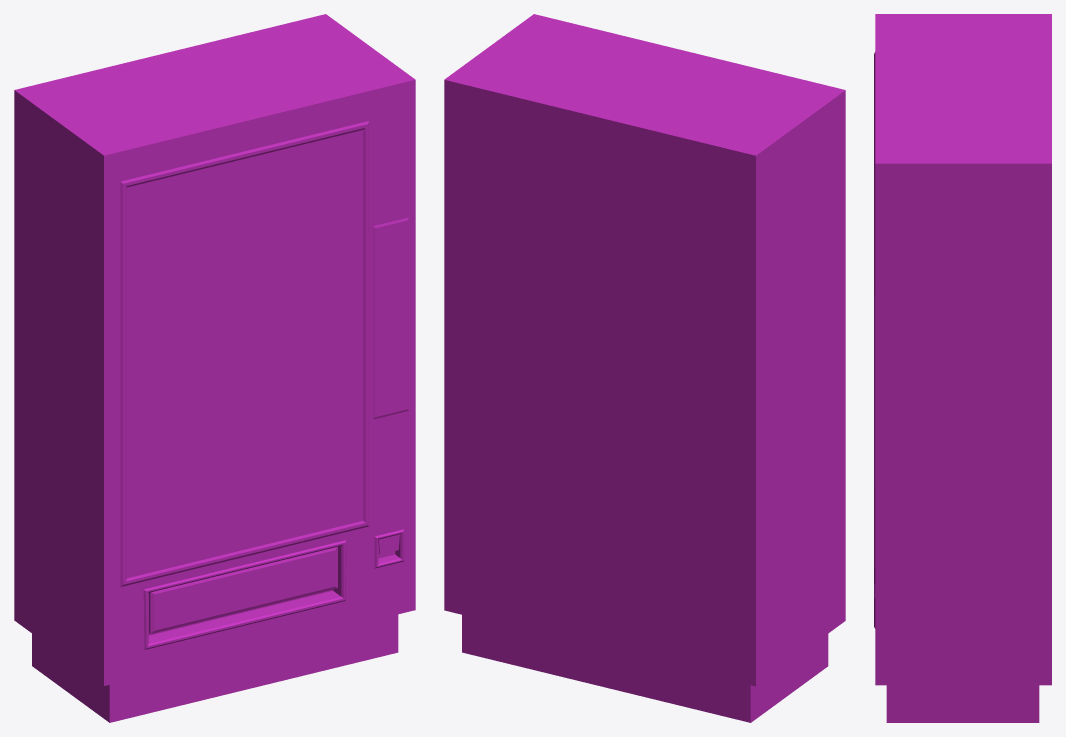
The model's file is vending_machine_fbx.fbx.
3 views of the same model, side by side, from view 1: azimuth 30°, elevation 25°; view 2: azimuth 150°, elevation 25°; view 3: azimuth 270°, elevation 25° (orthographic).
Visible parts, largest first — view 1: vending_machine; view 2: vending_machine; view 3: vending_machine.
Part boxes in pixels (<box>): vending_machine: <box>14,14,415,722</box>; vending_machine: <box>444,14,845,722</box>; vending_machine: <box>874,14,1051,722</box>.
Size of the model in its own units: 339 by 597 by 170.
